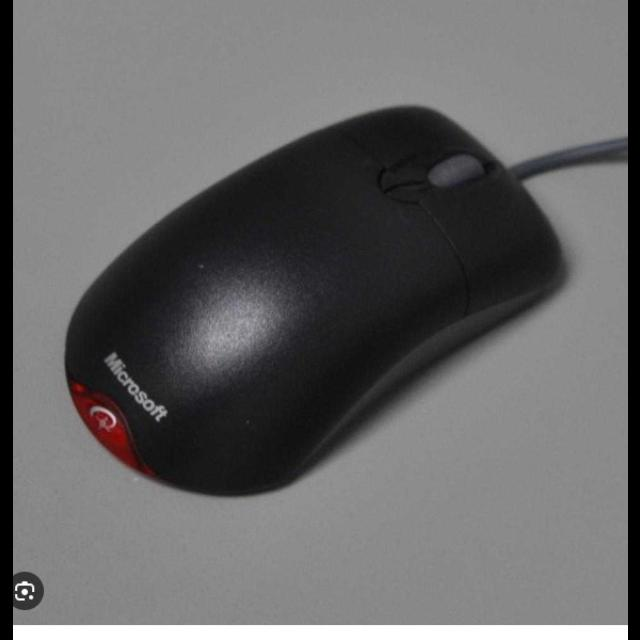Computer-Mouse: (62, 106, 624, 501)
